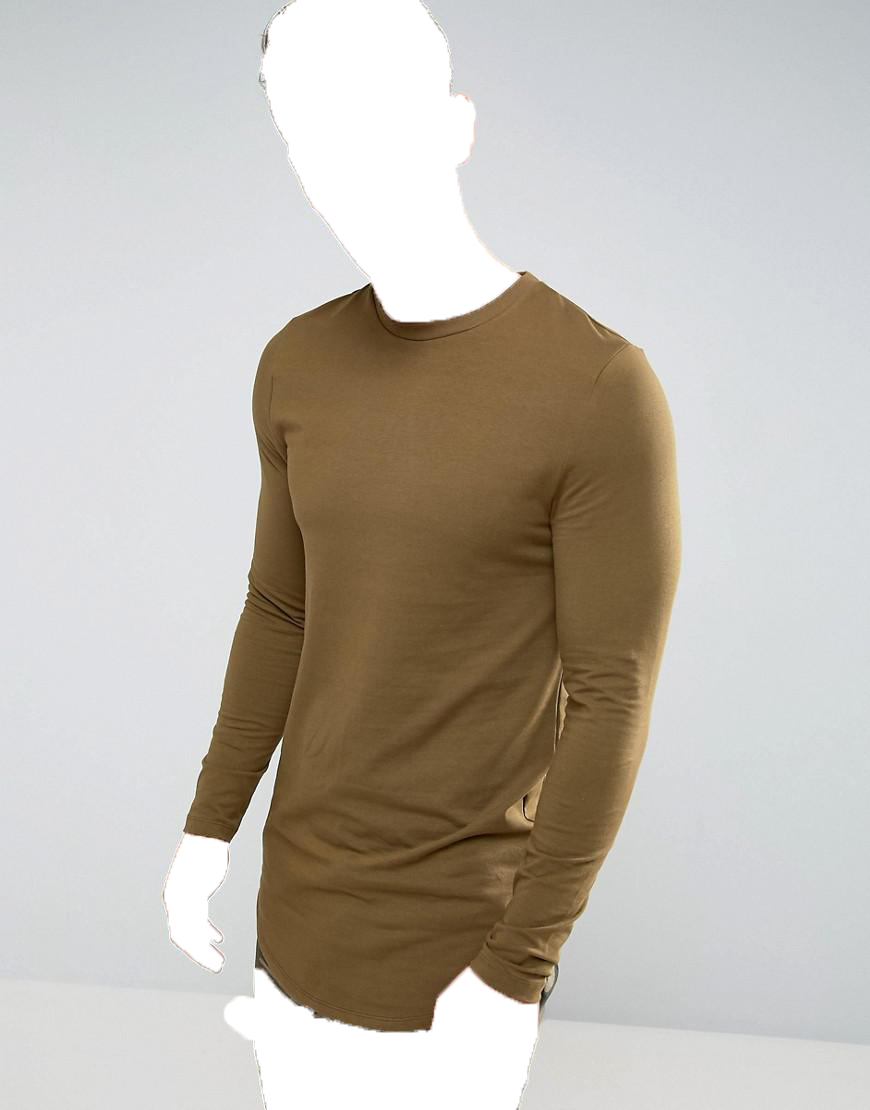teeshirt: (176, 269, 688, 1035)
